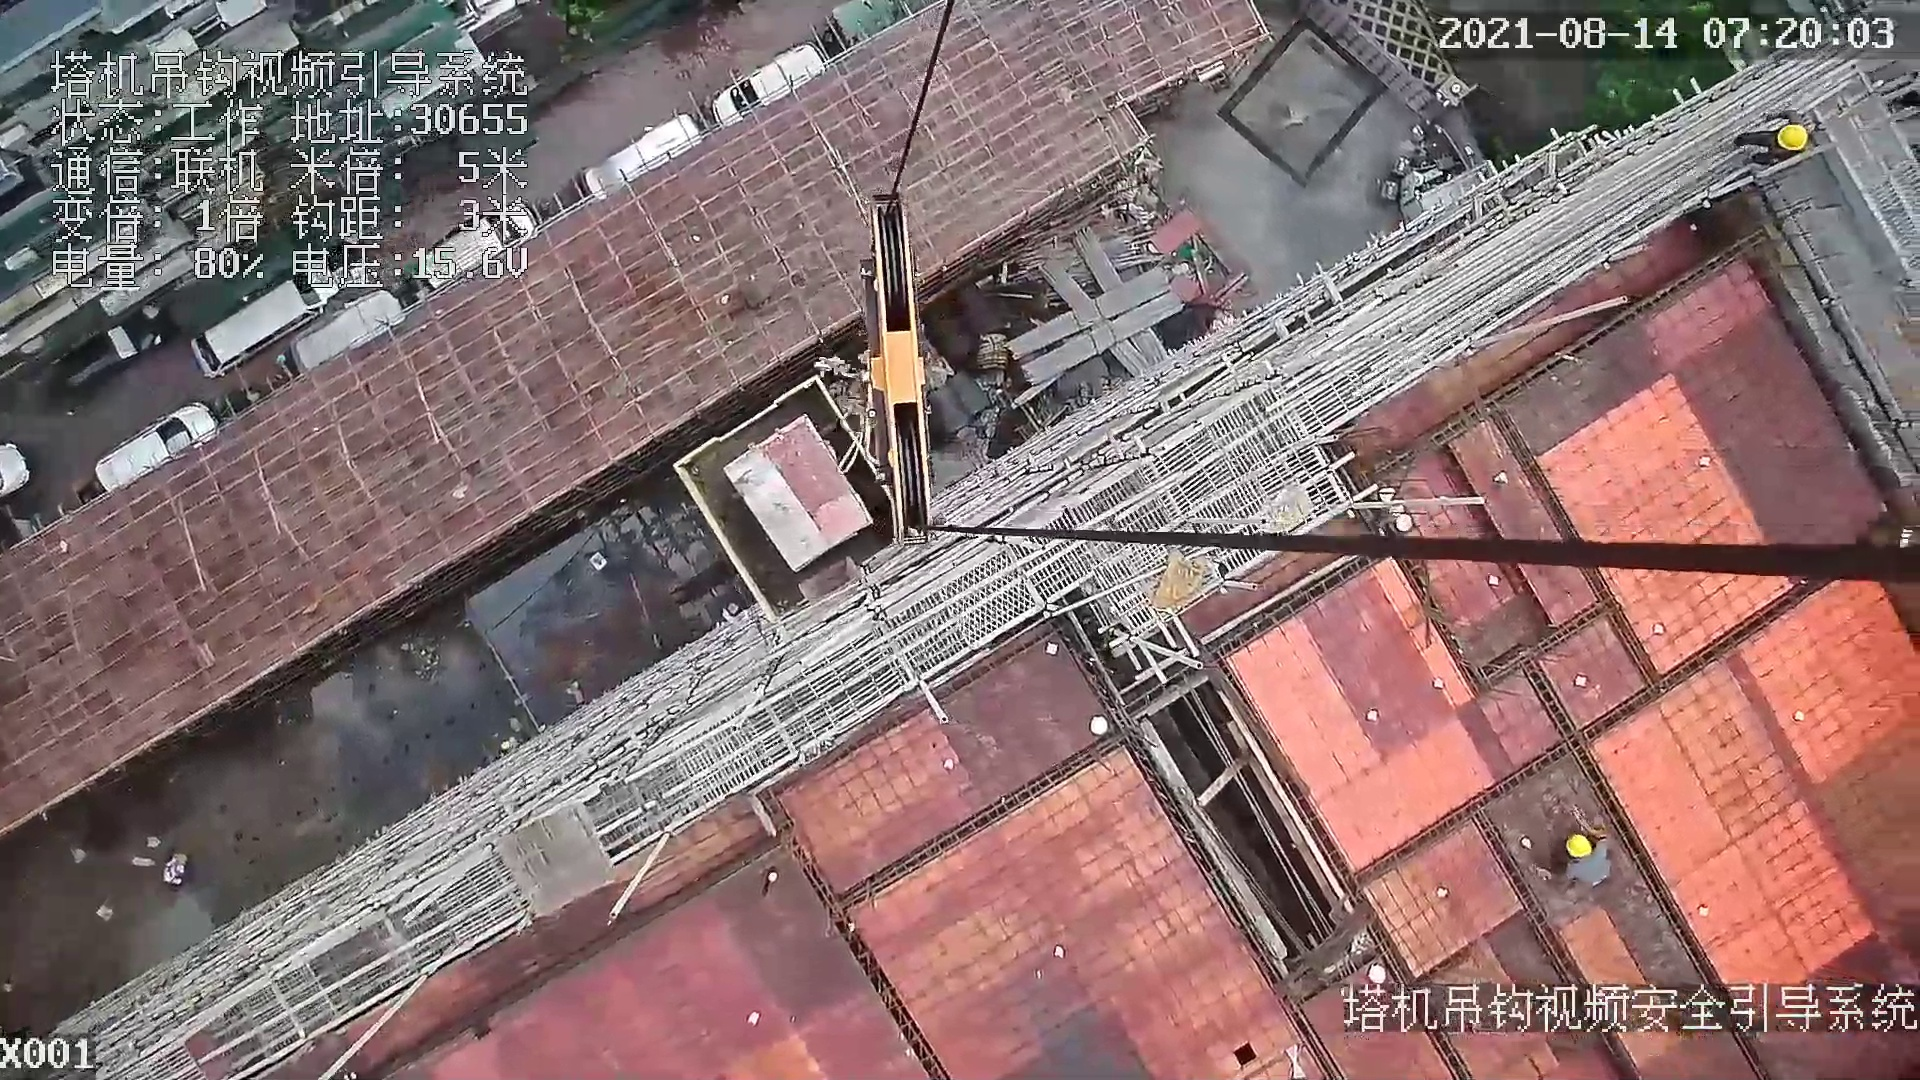helmet: (1564, 832, 1596, 861)
hook: (838, 180, 949, 547)
person: (1746, 99, 1819, 172), (1563, 819, 1618, 894)
